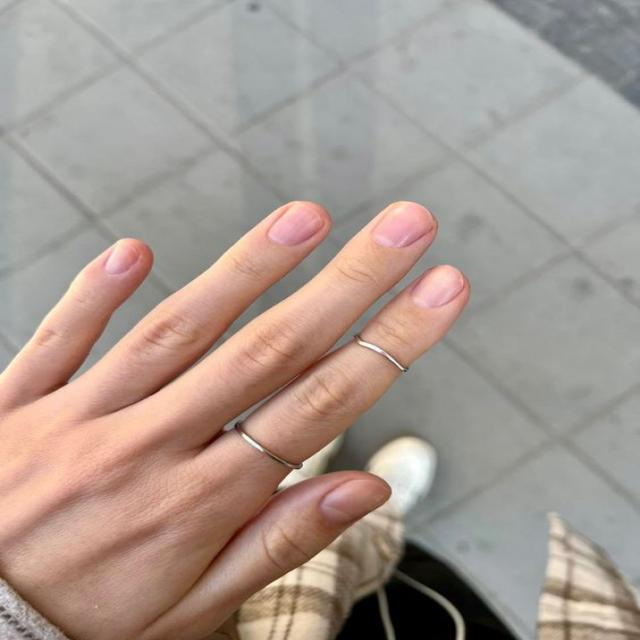Fingernail: (318, 480, 391, 526), (372, 203, 434, 248), (268, 205, 325, 247), (412, 264, 463, 308), (105, 243, 137, 275)
